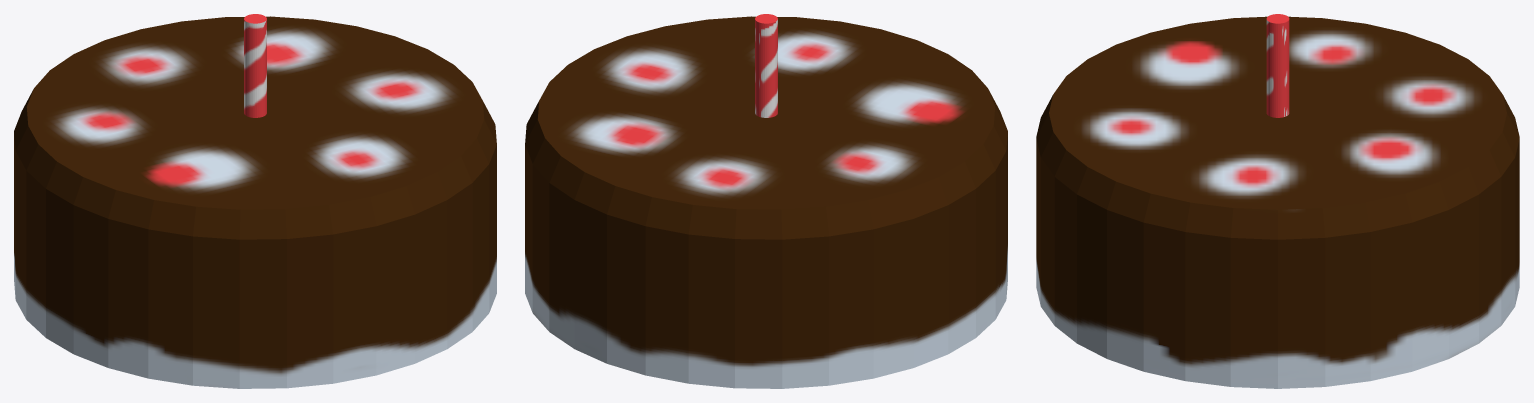
File: low-poly-cake.glb
The picture shows the model from 3 angles, left to right: view 1: azimuth 30°, elevation 25°; view 2: azimuth 150°, elevation 25°; view 3: azimuth 270°, elevation 25°; orthographic projection.
Parts seen in each view (by area): view 1: Cylinder, Cylinder.001; view 2: Cylinder, Cylinder.001; view 3: Cylinder, Cylinder.001.
Boxes of the visible parts, x1,y1,x2,y2 form: Cylinder: [14, 16, 496, 388]; Cylinder.001: [244, 14, 266, 117]; Cylinder: [525, 16, 1007, 388]; Cylinder.001: [755, 14, 777, 117]; Cylinder: [1036, 16, 1519, 388]; Cylinder.001: [1266, 14, 1289, 117].
Size of the model in its own units: 2 by 1.22 by 2.
Materials: 2 (2 with a texture image).
